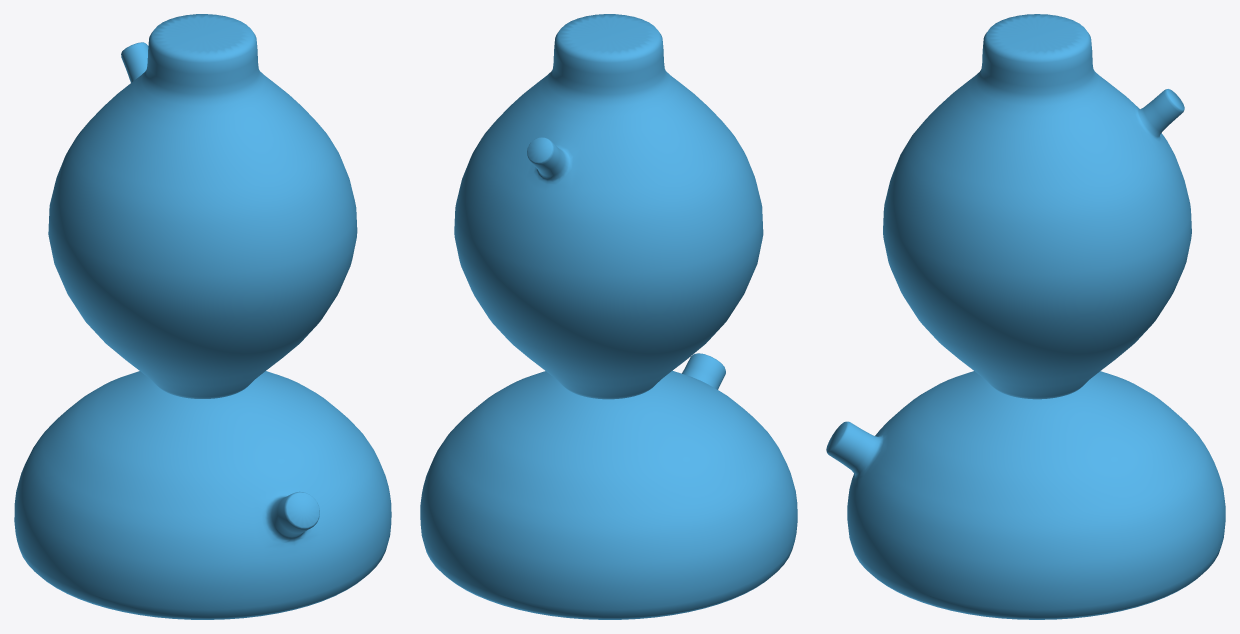
Rendered from LQKippa2 (2).fbx.
3 renders of one model, left to right at view 1: azimuth 30°, elevation 25°; view 2: azimuth 150°, elevation 25°; view 3: azimuth 270°, elevation 25°, orthographic.
Visible parts, largest first — view 1: LQKIPPA5, LQKIPPA4; view 2: LQKIPPA5, LQKIPPA4; view 3: LQKIPPA5, LQKIPPA4.
Part boxes in pixels (box(x1,y1,x2,y2)): LQKIPPA5: box(48, 14, 357, 398); LQKIPPA4: box(14, 371, 391, 619); LQKIPPA5: box(454, 14, 763, 399); LQKIPPA4: box(420, 353, 797, 619); LQKIPPA5: box(883, 14, 1191, 399); LQKIPPA4: box(826, 371, 1225, 619).
Size of the model in its own units: 2.43 by 3.62 by 2.57.
